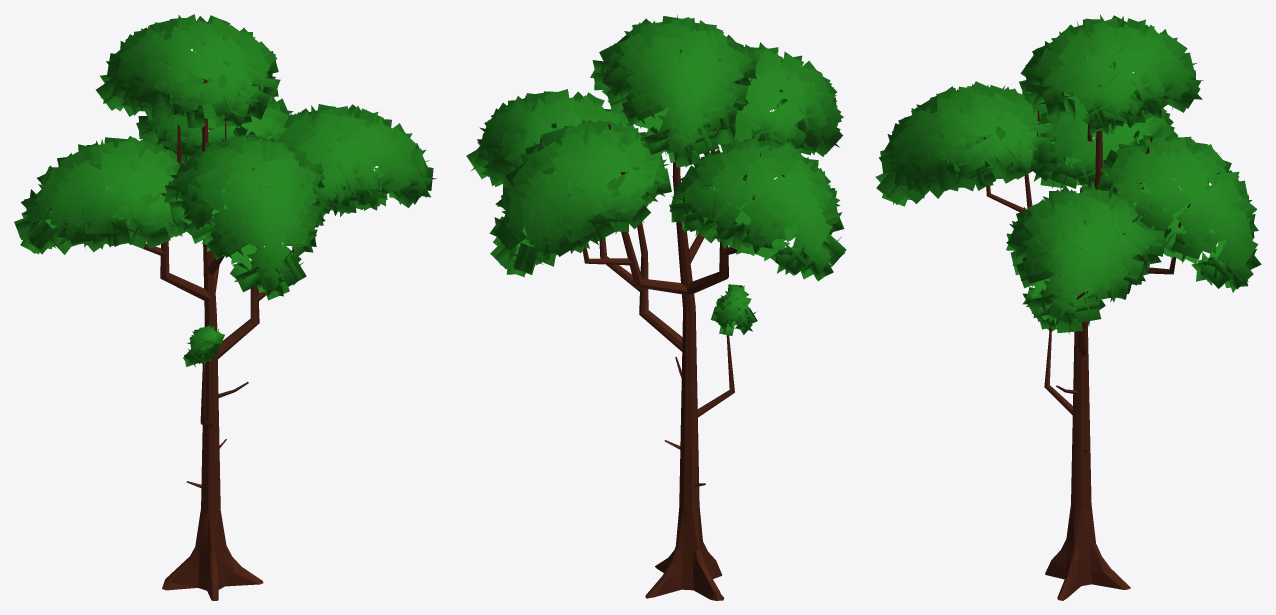
The model's file is Tree_004.FBX.
3 renders of one model, left to right at view 1: azimuth 30°, elevation 25°; view 2: azimuth 150°, elevation 25°; view 3: azimuth 270°, elevation 25°, orthographic. The views are drawn at different scales.
Parts seen in each view (by area): view 1: Tree_004; view 2: Tree_004; view 3: Tree_004.
Part boxes in pixels (x1=…): Tree_004: x1=14, y1=14, x2=437, y2=600; Tree_004: x1=466, y1=15, x2=846, y2=600; Tree_004: x1=875, y1=14, x2=1261, y2=600.
Bounding box in the file's own units: 589 × 816 × 513.
